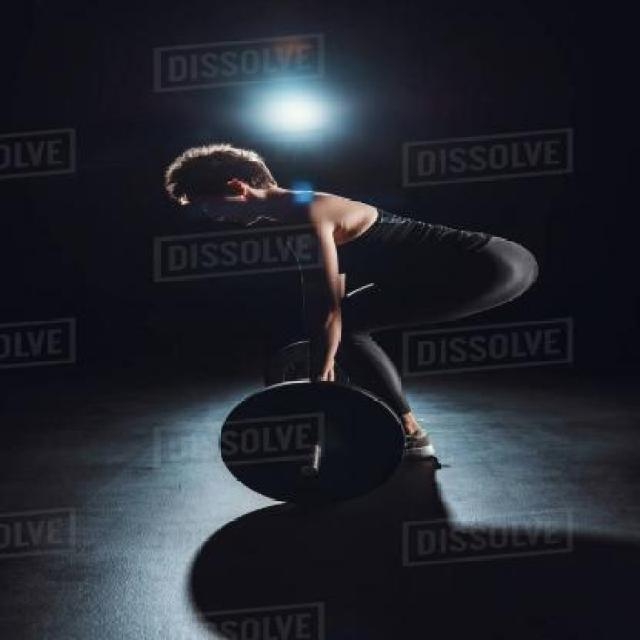barbell: (214, 377, 416, 531)
